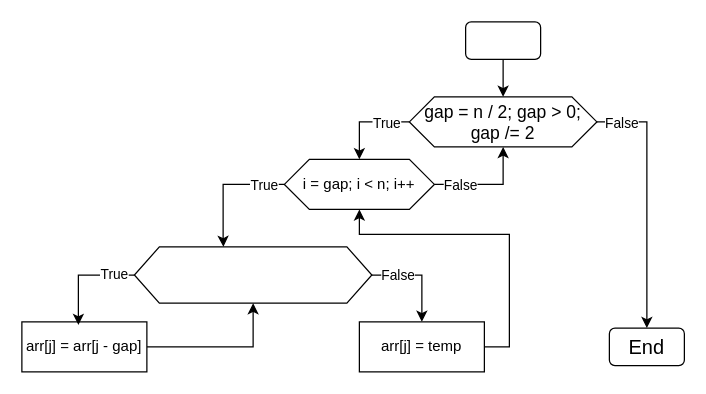
Some shapes in this 706 by 394 pixel diagram are drawn without their labels. The centre of each missing label's shape, as x and y in pixels:
"j = i; j >= gap && arr[j - gap] > temp; j -= gap" belongs at point 252,274.
"Start" belongs at point 502,40.
